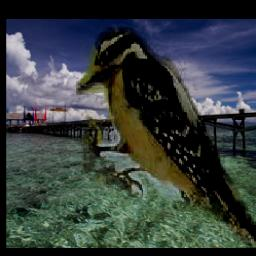Woodpecker: (76, 21, 256, 246)
